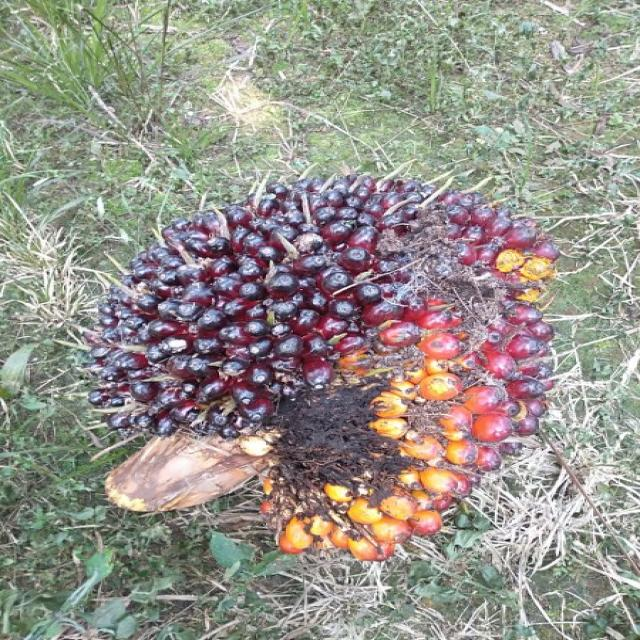fraksi 1: (47, 84, 610, 583)
